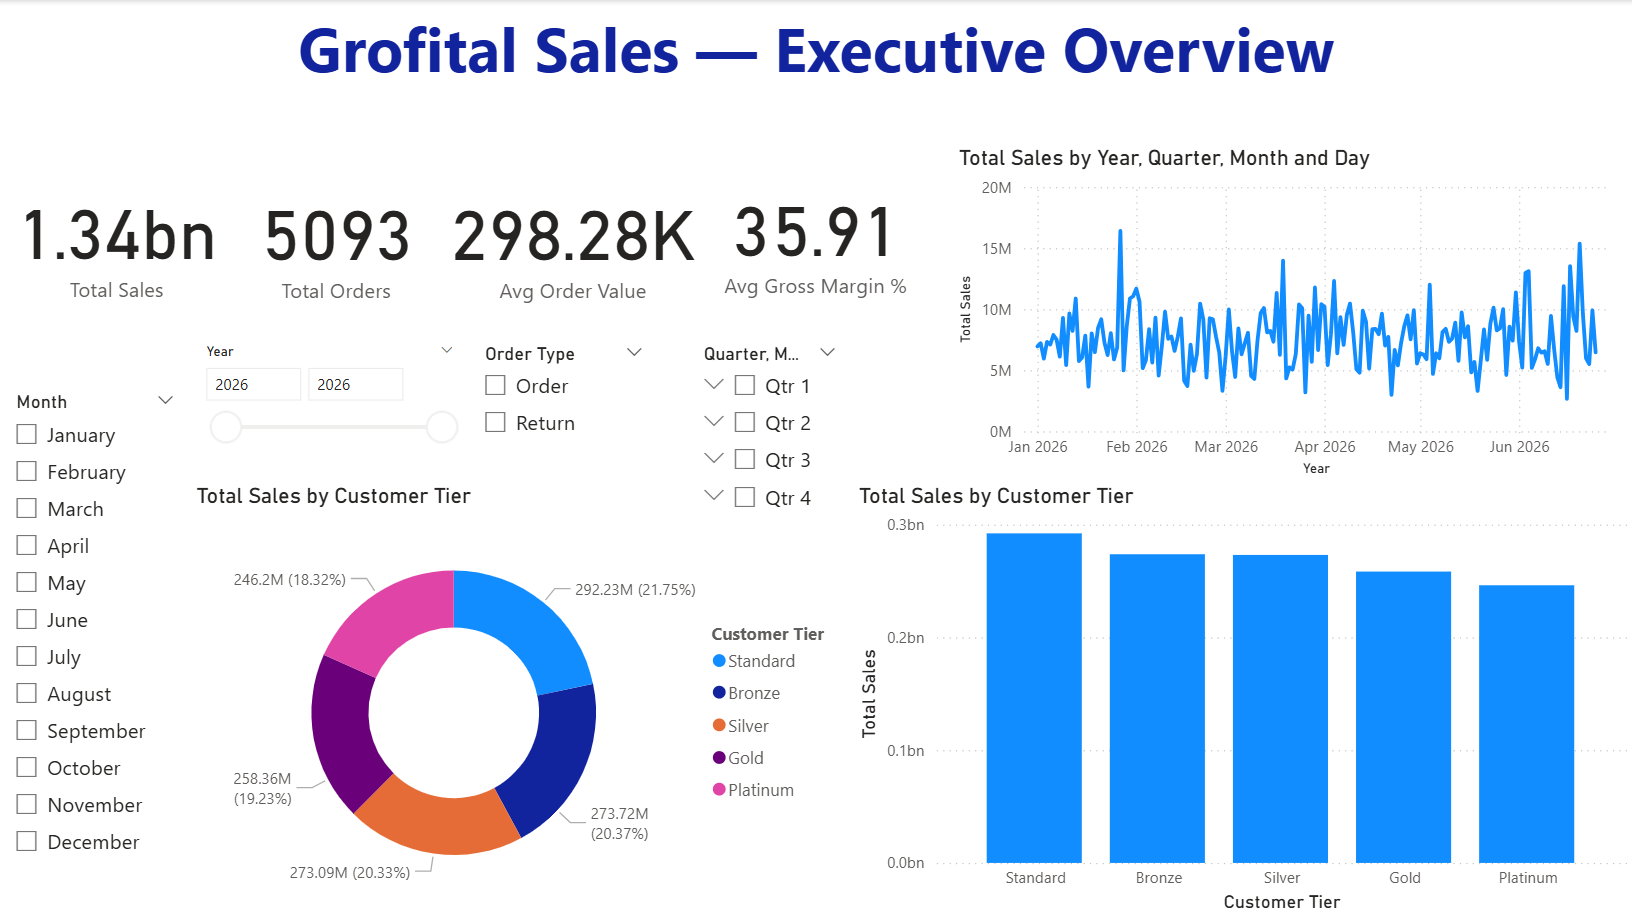

This screenshot's page, from the dashboard's own definition file:
{"tool":"powerbi","page":{"name":"Executive Overview","canvas":[1280,720],"ordinal":0},"visuals":[{"type":"card","fields":{"Values":["Fact_Sales.Total Sales"]},"box":[0,113.3,183.3,148.9],"z":0},{"type":"card","fields":{"Values":["Fact_Sales.Total Orders"]},"box":[183.3,113.3,161.1,150],"z":1000},{"type":"card","fields":{"Values":["Fact_Sales.Avg Order Value"]},"box":[344.4,113.3,208.9,150],"z":2000},{"type":"card","fields":{"Values":["Fact_Sales.Avg Gross Margin %"]},"box":[551.1,113.3,177.8,143.3],"z":3000},{"type":"lineChart","fields":{"Y":["Fact_Sales.Total Sales"],"Category":["Dim_Date.Date.Variation.Date Hierarchy.Year","Dim_Date.Date.Variation.Date Hierarchy.Quarter","Dim_Date.Date.Variation.Date Hierarchy.Month","Dim_Date.Date.Variation.Date Hierarchy.Day"]},"box":[746.7,113.3,533.3,264.4],"z":4000},{"type":"donutChart","fields":{"Y":["Fact_Sales.Total Sales"],"Category":["Dim_Customer.Customer Tier"]},"box":[148.9,377.8,518.9,342.2],"z":5000},{"type":"clusteredColumnChart","fields":{"Y":["Fact_Sales.Total Sales"],"Category":["Dim_Customer.Customer Tier"]},"box":[667.8,377.8,612.2,342.2],"z":6000},{"type":"slicer","fields":{"Values":["Fact_Sales.Order Type"]},"box":[367.8,263.3,148.9,91.1],"z":7000},{"type":"slicer","fields":{"Values":["Dim_Date.Date.Variation.Date Hierarchy.Year"]},"box":[148.9,263.3,218.9,91.1],"z":8000},{"type":"slicer","fields":{"Values":["Dim_Date.Date.Variation.Date Hierarchy.Quarter","Dim_Date.Date.Variation.Date Hierarchy.Month"]},"box":[538.9,263.3,128.9,151.1],"z":9000},{"type":"slicer","fields":{"Values":["Dim_Date.Date.Variation.Date Hierarchy.Month"]},"box":[0,302.2,148.9,417.8],"z":10000},{"type":"textbox","box":[0,0,1280,76.7],"z":10001}]}

Visuals, with their boxes in screenshot pixels (x1, y1, x2, y2), scaled from the page's 1280x720 canvas onto the 1632x917 screenshot:
card - Fact_Sales.Total Sales: [0,144,234,334]
card - Fact_Sales.Total Orders: [234,144,439,335]
card - Fact_Sales.Avg Order Value: [439,144,705,335]
card - Fact_Sales.Avg Gross Margin %: [703,144,929,327]
lineChart - Fact_Sales.Total Sales x Dim_Date.Date.Variation.Date Hierarchy.Year: [952,144,1631,481]
donutChart - Fact_Sales.Total Sales x Dim_Customer.Customer Tier: [190,481,851,916]
clusteredColumnChart - Fact_Sales.Total Sales x Dim_Customer.Customer Tier: [851,481,1631,916]
slicer - Fact_Sales.Order Type: [469,335,659,451]
slicer - Dim_Date.Date.Variation.Date Hierarchy.Year: [190,335,469,451]
slicer - Dim_Date.Date.Variation.Date Hierarchy.Quarter x Dim_Date.Date.Variation.Date Hierarchy.Month: [687,335,851,528]
slicer - Dim_Date.Date.Variation.Date Hierarchy.Month: [0,385,190,916]
textbox: [0,0,1631,98]
